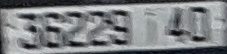0: (188, 6, 210, 43)
2: (63, 11, 89, 48), (86, 10, 109, 47)
3: (16, 12, 42, 50)
4: (164, 6, 188, 43)
6: (41, 12, 63, 49)
9: (109, 10, 132, 46)
a: (143, 8, 158, 46)
